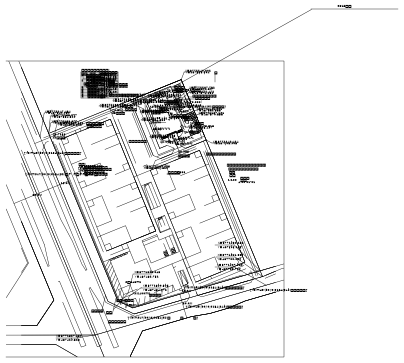door: (1, 1, 74, 14), (142, 154, 150, 183), (17, 89, 23, 114), (156, 130, 164, 148), (144, 243, 150, 266), (260, 83, 277, 90), (153, 244, 165, 249), (155, 274, 168, 276), (157, 265, 160, 269), (179, 70, 182, 72)
staircase: (146, 249, 174, 272), (163, 256, 170, 259), (149, 267, 154, 269), (177, 236, 181, 238), (160, 229, 164, 230), (159, 229, 160, 232), (180, 237, 181, 240), (151, 246, 152, 248), (151, 248, 152, 249), (146, 265, 147, 265), (163, 255, 163, 256), (170, 259, 170, 260), (152, 246, 153, 246)
wall: (4, 46, 286, 308), (134, 220, 204, 289), (137, 211, 173, 262), (173, 274, 183, 285), (166, 230, 176, 236), (176, 233, 182, 237), (161, 227, 167, 230), (160, 227, 164, 230), (180, 236, 182, 241), (159, 227, 161, 232), (176, 234, 180, 236), (161, 228, 164, 230), (177, 235, 180, 237), (175, 234, 178, 236), (164, 230, 166, 232), (166, 230, 167, 232), (180, 235, 181, 237), (175, 234, 176, 236), (167, 251, 169, 252), (155, 248, 157, 249), (195, 243, 196, 244), (175, 277, 176, 278), (184, 247, 185, 248), (190, 234, 191, 235), (159, 255, 160, 256), (153, 255, 154, 256), (161, 228, 162, 229), (181, 236, 182, 237), (167, 253, 168, 254), (168, 249, 169, 250), (158, 259, 158, 259), (150, 254, 151, 254), (163, 264, 164, 264), (166, 265, 167, 265), (161, 227, 161, 229), (159, 266, 160, 266)
window: (156, 260, 173, 277), (143, 255, 159, 272), (156, 222, 171, 238), (171, 228, 186, 244), (150, 204, 165, 220), (191, 205, 206, 220), (171, 84, 183, 95), (185, 67, 188, 70)
